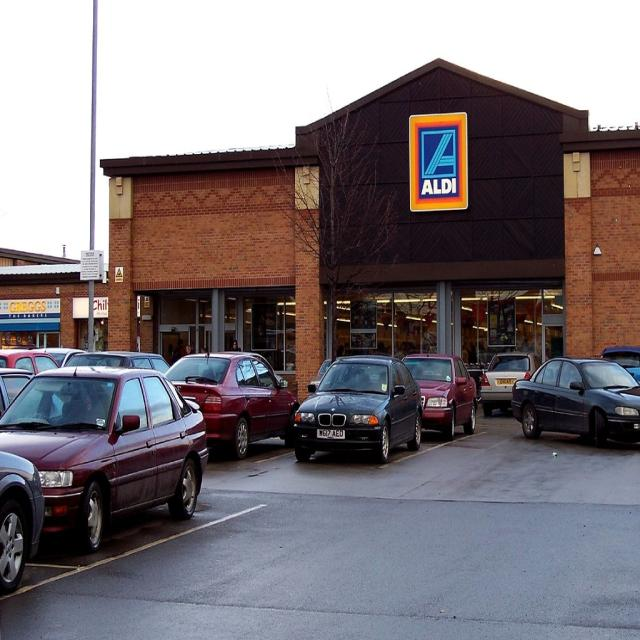aldi: (411, 115, 467, 212)
